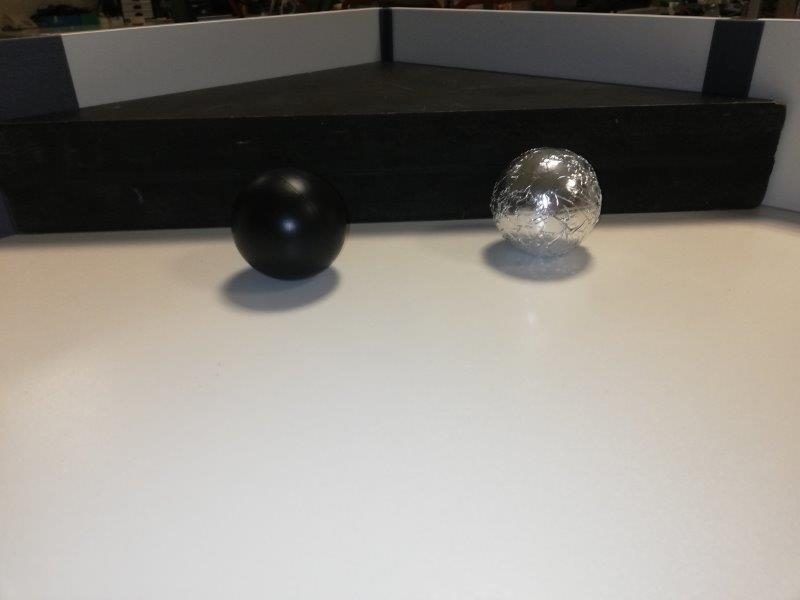bianca: (489, 144, 602, 259)
nera: (232, 164, 348, 280)
